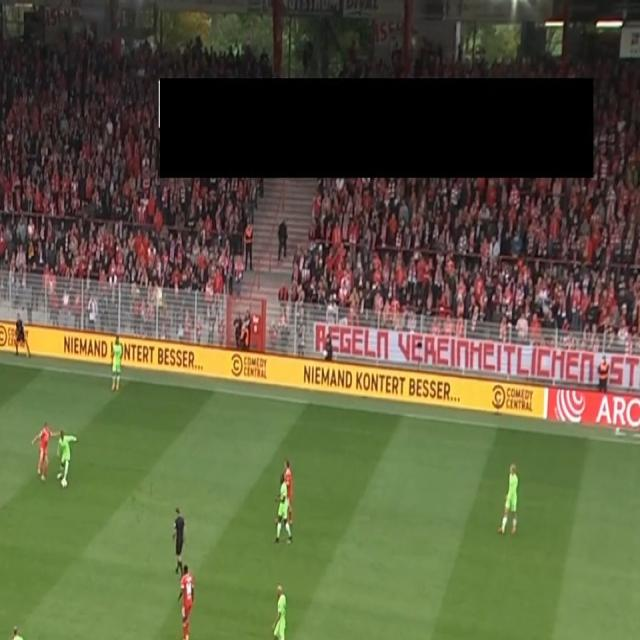ball: (60, 474, 69, 490)
